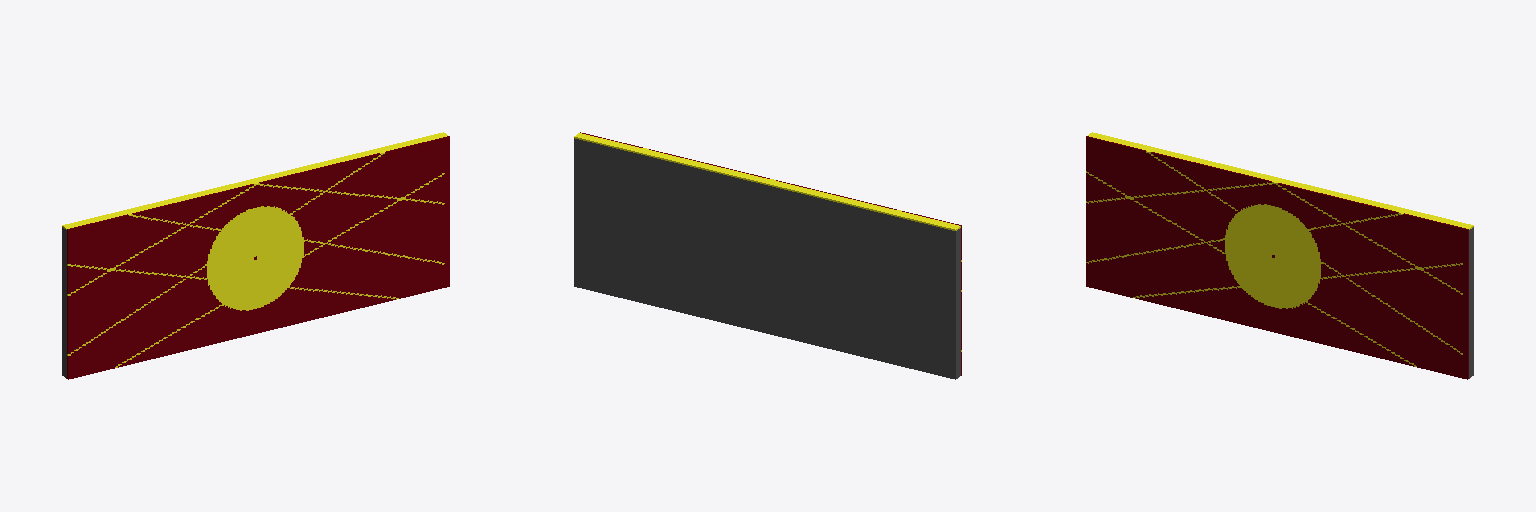
3 renders of one model, left to right at view 1: azimuth 30°, elevation 25°; view 2: azimuth 150°, elevation 25°; view 3: azimuth 330°, elevation 25°, orthographic.
Visible parts, largest first — view 1: object 1; view 2: object 1; view 3: object 1.
Part boxes in pixels (x1,y1,x2,y2): object 1: (62,132,449,379); object 1: (574,132,961,379); object 1: (1086,132,1473,379).
Size of the model in its own units: 25.3 by 9.5 by 0.7.
1 materials, 1 textured.